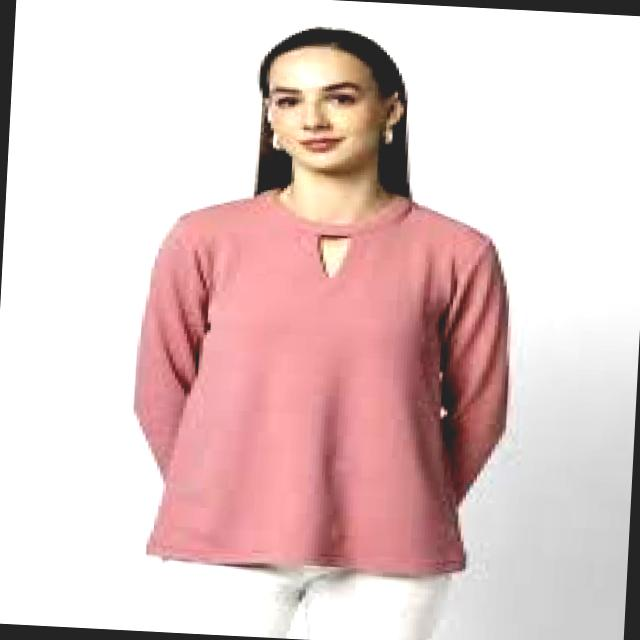face: (266, 46, 403, 171)
lower-wear: (149, 558, 452, 639)
top-wear: (134, 188, 510, 574)
